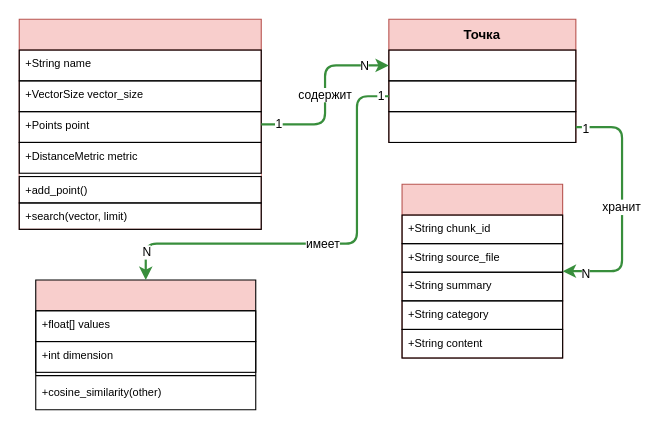
This 661x432 diagram has some shape labels left out. Each missing label, with the box of its shape:
+Payload payload: (388, 111, 576, 142)
+String id: (388, 49, 576, 81)
+Vectors embedding: (388, 80, 576, 112)
Payload: (401, 183, 563, 358)
Vector: (35, 279, 256, 410)
Коллекция: (18, 18, 261, 229)
